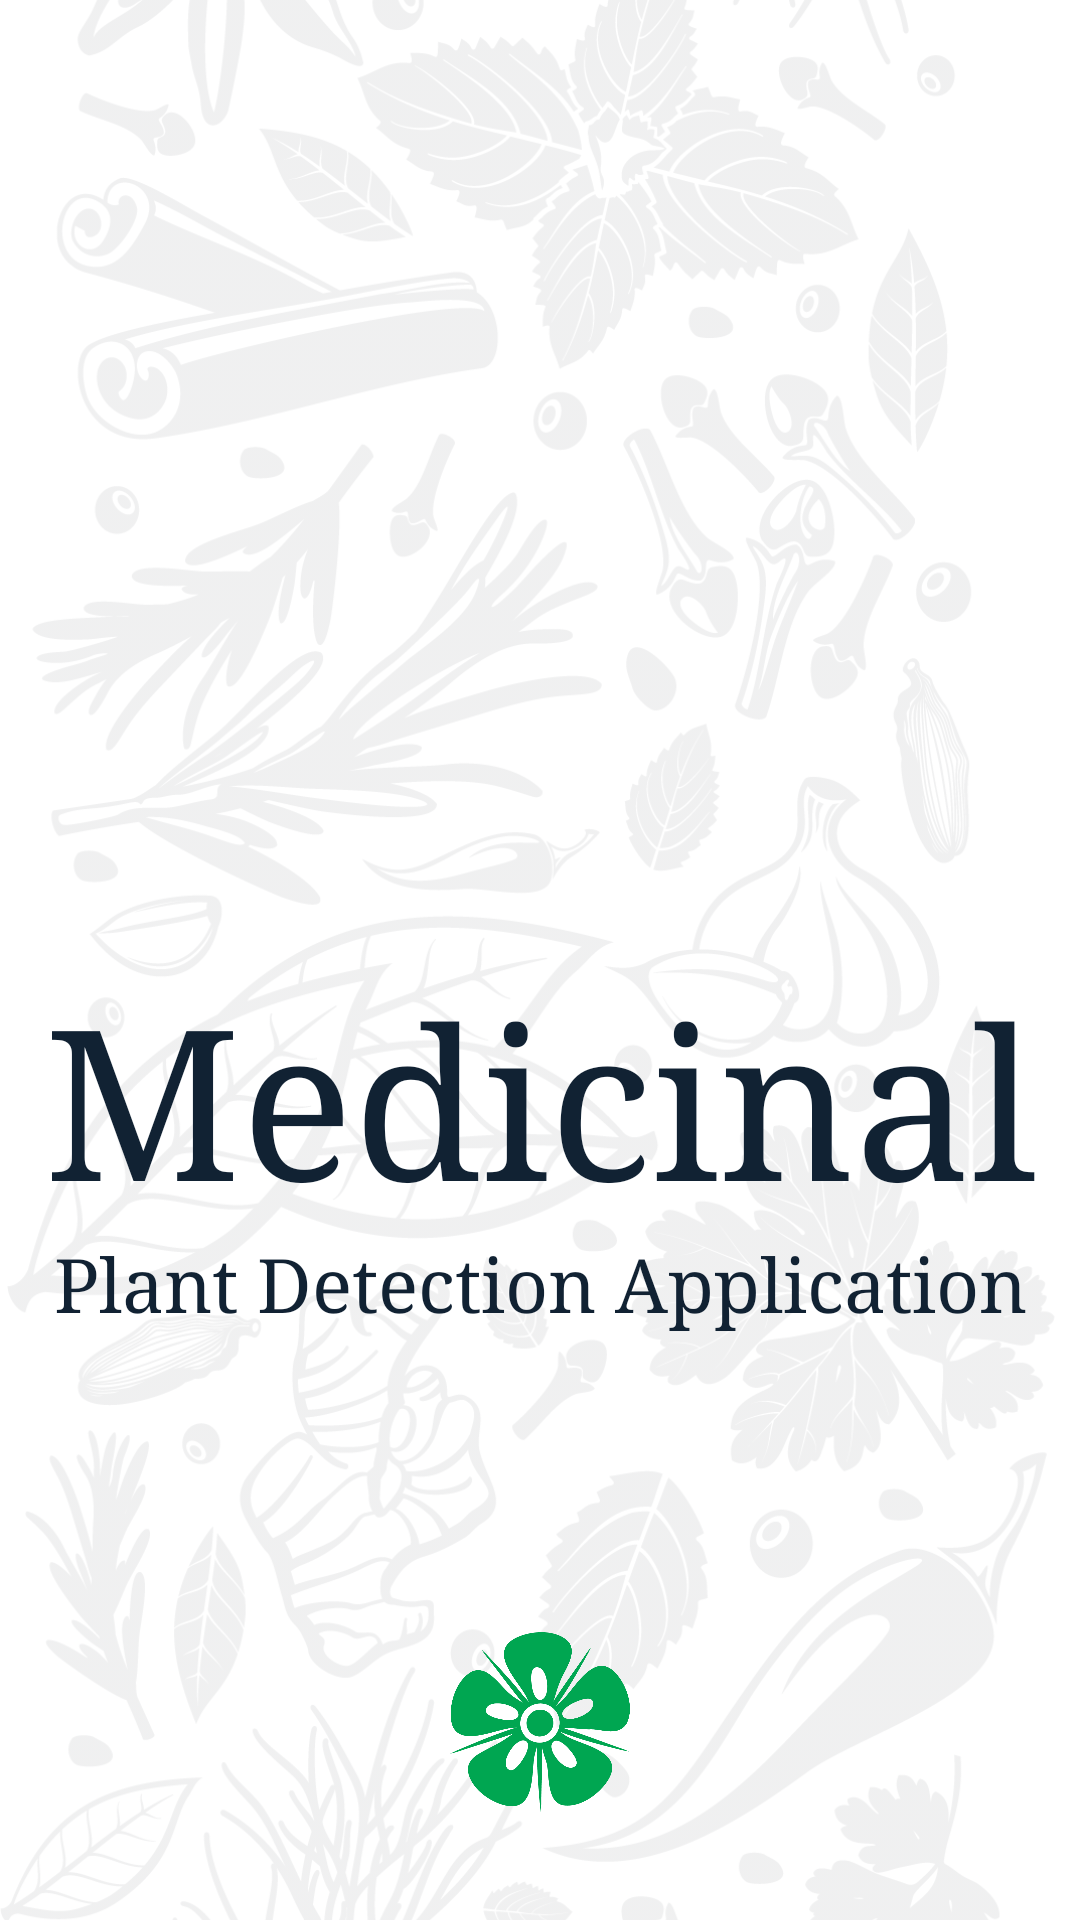

Where icons sit on this 1080 × 1920 app screen, as [x1=x1, y1=y1, x2=x2, y2=y2]:
flower: [x1=450, y1=1632, x2=630, y2=1812]
